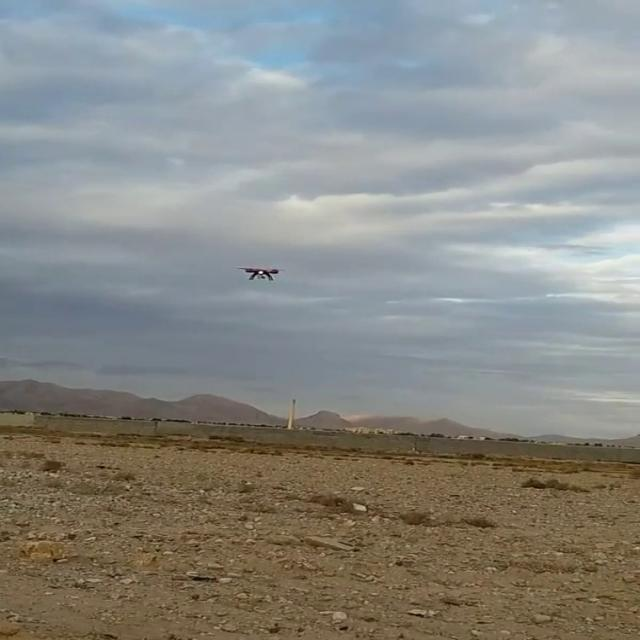drone: (234, 263, 287, 286)
